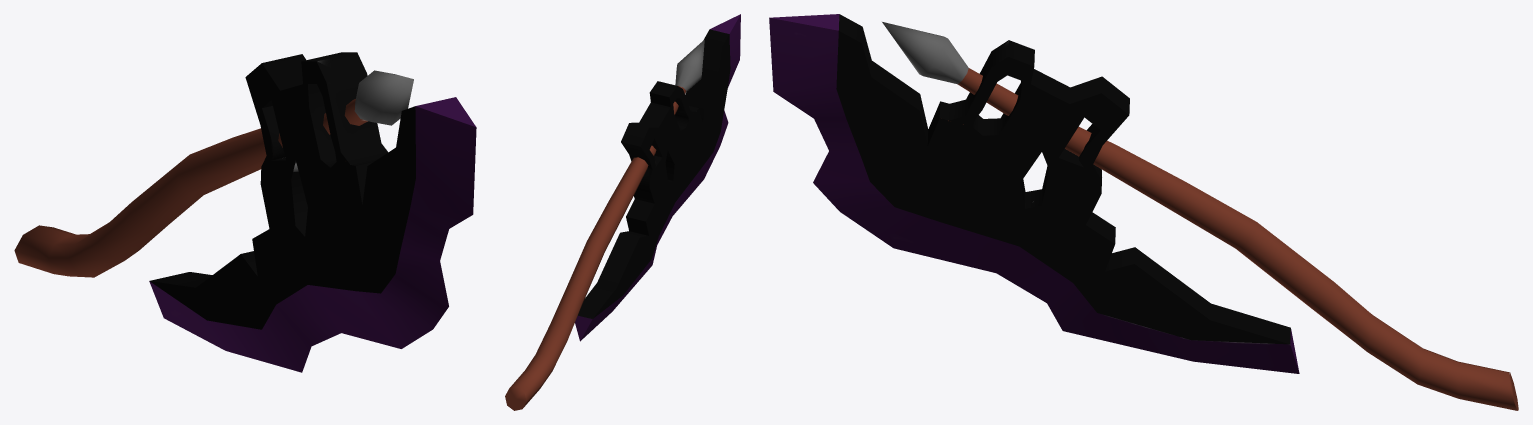
File: Hacha2.fbx
The picture shows the model from 3 angles, left to right: view 1: azimuth 30°, elevation 25°; view 2: azimuth 150°, elevation 25°; view 3: azimuth 270°, elevation 25°; orthographic projection. The views are drawn at different scales.
Parts seen in each view (by area): view 1: Hacha 2; view 2: Hacha 2; view 3: Hacha 2.
Boxes of the visible parts, bbox=[...] form: Hacha 2: bbox=[14, 52, 476, 372]; Hacha 2: bbox=[505, 14, 740, 410]; Hacha 2: bbox=[769, 14, 1518, 410].
Bounding box in the file's own units: 9.48 × 83.62 × 146.
